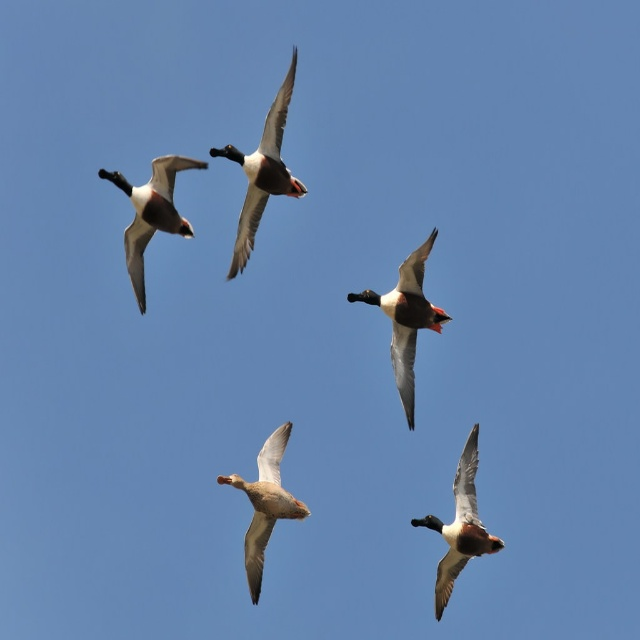Duck: (208, 46, 308, 286), (345, 225, 454, 436), (91, 159, 213, 316), (406, 427, 503, 615), (216, 418, 308, 601)
